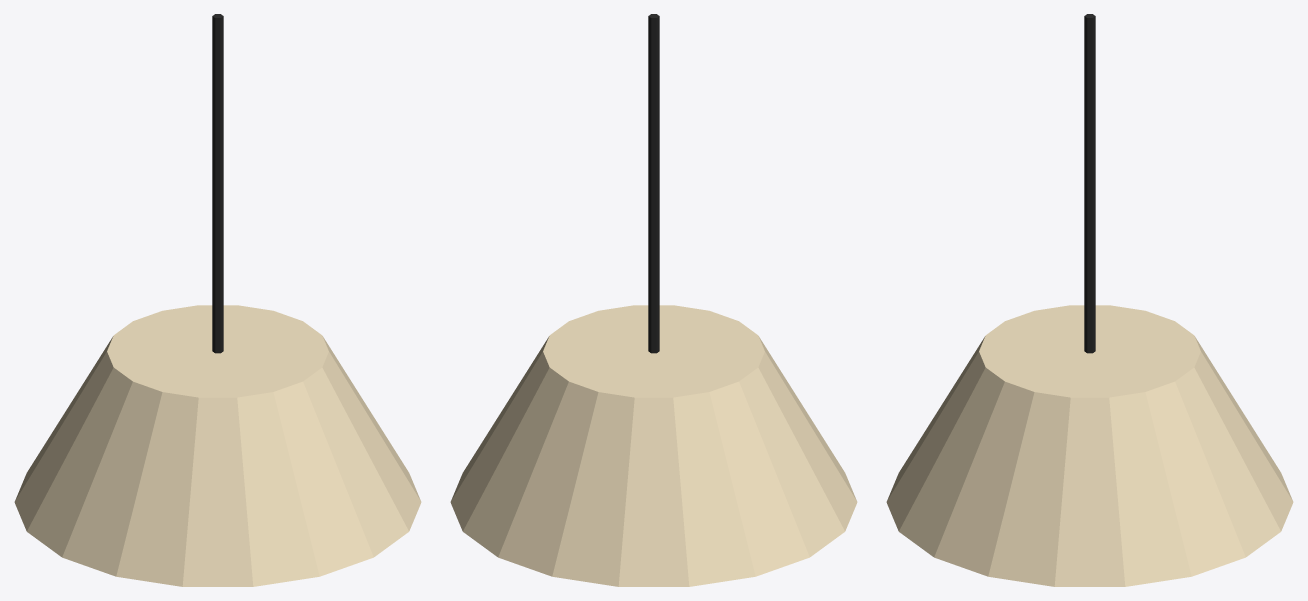
File: lamp_shade.glb
The picture shows the model from 3 angles, left to right: view 1: azimuth 30°, elevation 25°; view 2: azimuth 150°, elevation 25°; view 3: azimuth 270°, elevation 25°; orthographic projection.
Visible parts, largest first — view 1: lamp_shade; view 2: lamp_shade; view 3: lamp_shade.
Part boxes in pixels (bbox=[...]): lamp_shade: bbox=[14, 14, 421, 586]; lamp_shade: bbox=[450, 14, 857, 586]; lamp_shade: bbox=[886, 14, 1293, 586].
Bounding box in the file's own units: 0.4333 × 0.59 × 0.44.
